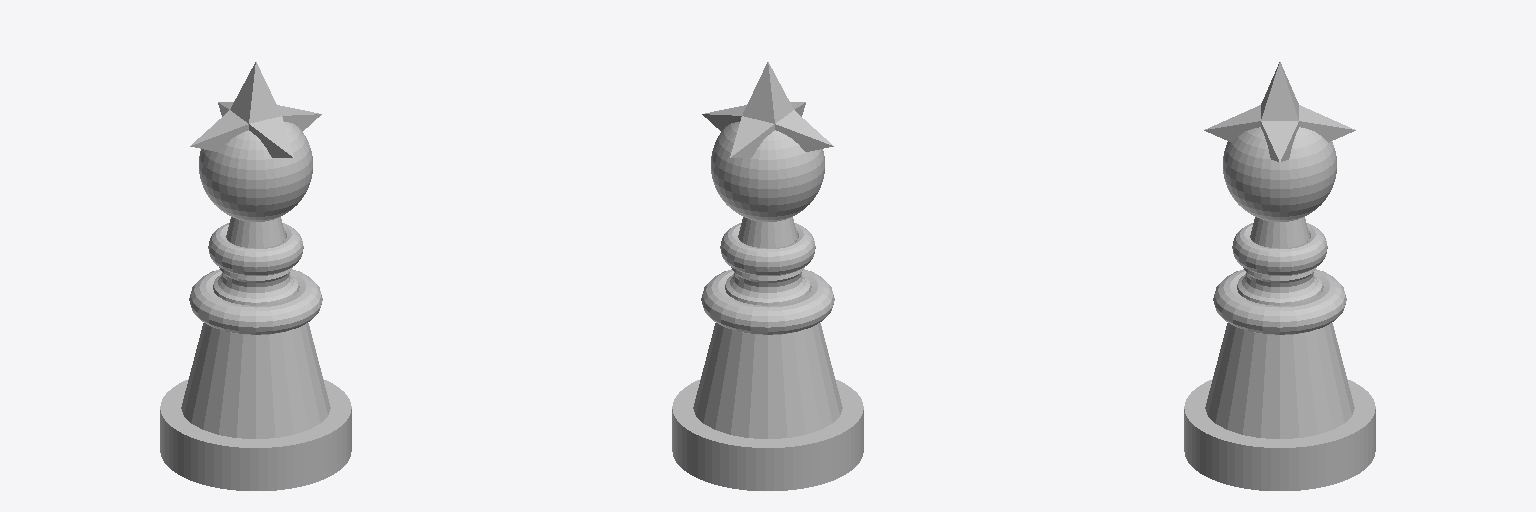
Rendered from Konig.obj.
3 renders of one model, left to right at view 1: azimuth 30°, elevation 25°; view 2: azimuth 150°, elevation 25°; view 3: azimuth 270°, elevation 25°, orthographic.
Parts seen in each view (by area): view 1: obj_0.003; view 2: obj_0.003; view 3: obj_0.003.
Part boxes in pixels (bbox=[...]): obj_0.003: bbox=[160, 62, 351, 490]; obj_0.003: bbox=[672, 62, 863, 490]; obj_0.003: bbox=[1184, 62, 1375, 490].
Size of the model in its own units: 20 by 45 by 20.